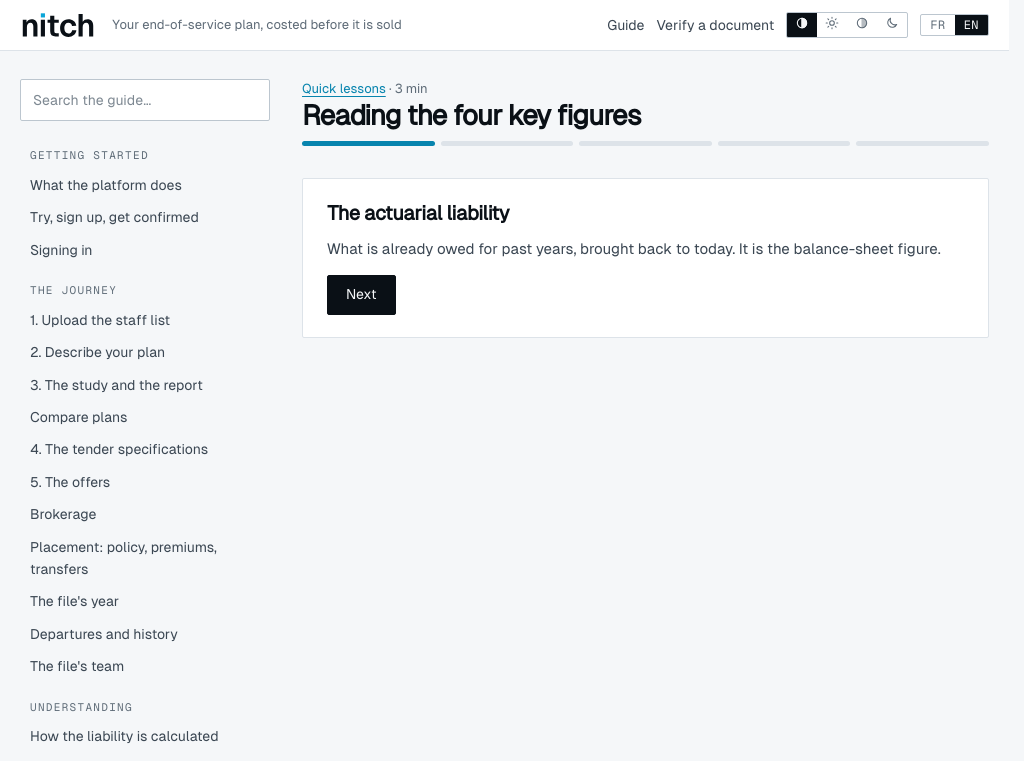
Scenario: the guide in English › a lesson: its screens, its question and its reason in English
The width and height of the screenshot is (1024, 761).
Expected: the heading "Reading the four key figures" is shown, [302,99,641,131]
Expected: the heading "The actuarial liability" is shown, [327,202,509,224]
Click the button "Next": x=361, y=295 [327,275,396,315]
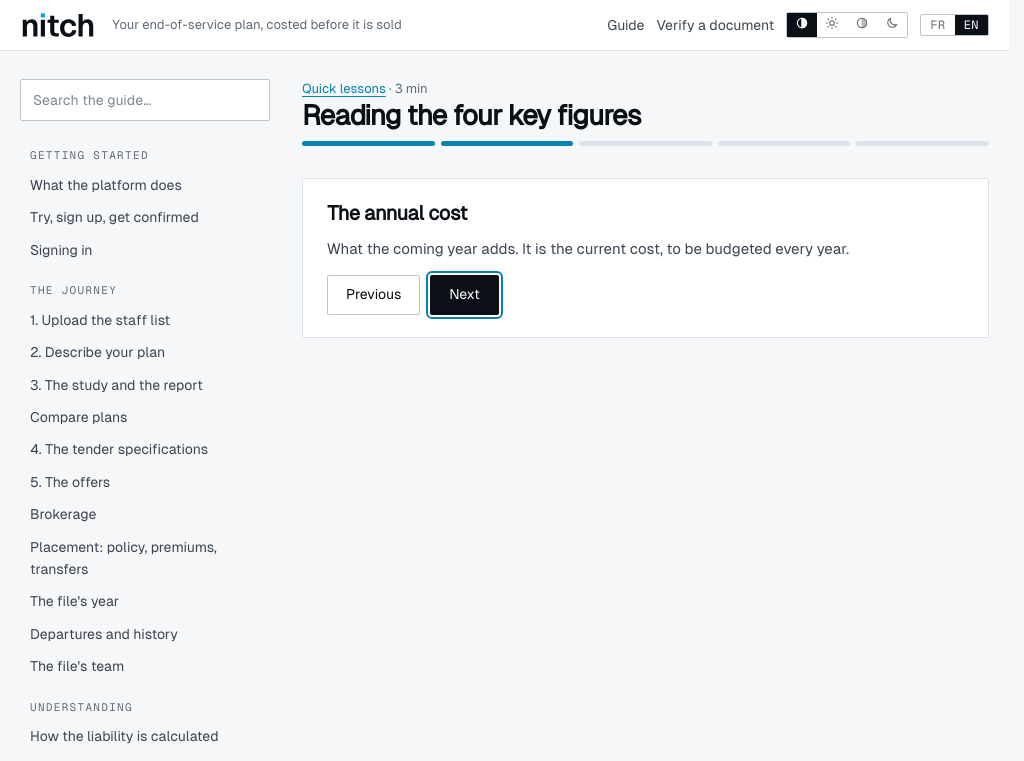
Click the button "Next": x=465, y=295 [430,275,499,315]
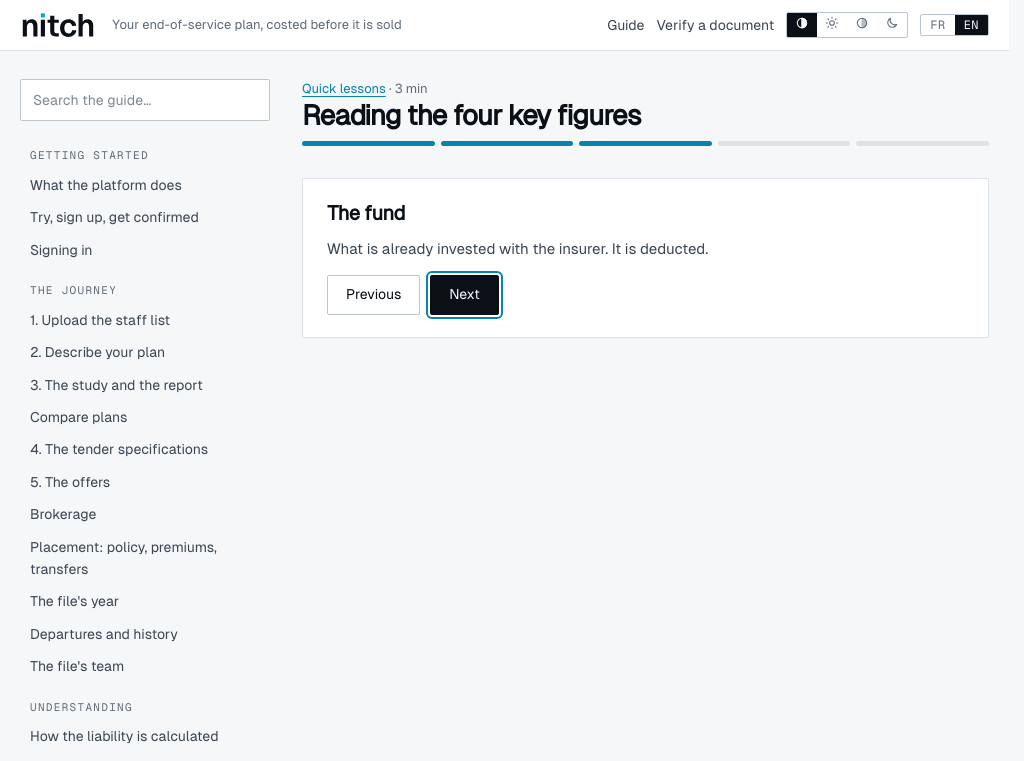
Click the button "Next": x=465, y=295 [430,275,499,315]
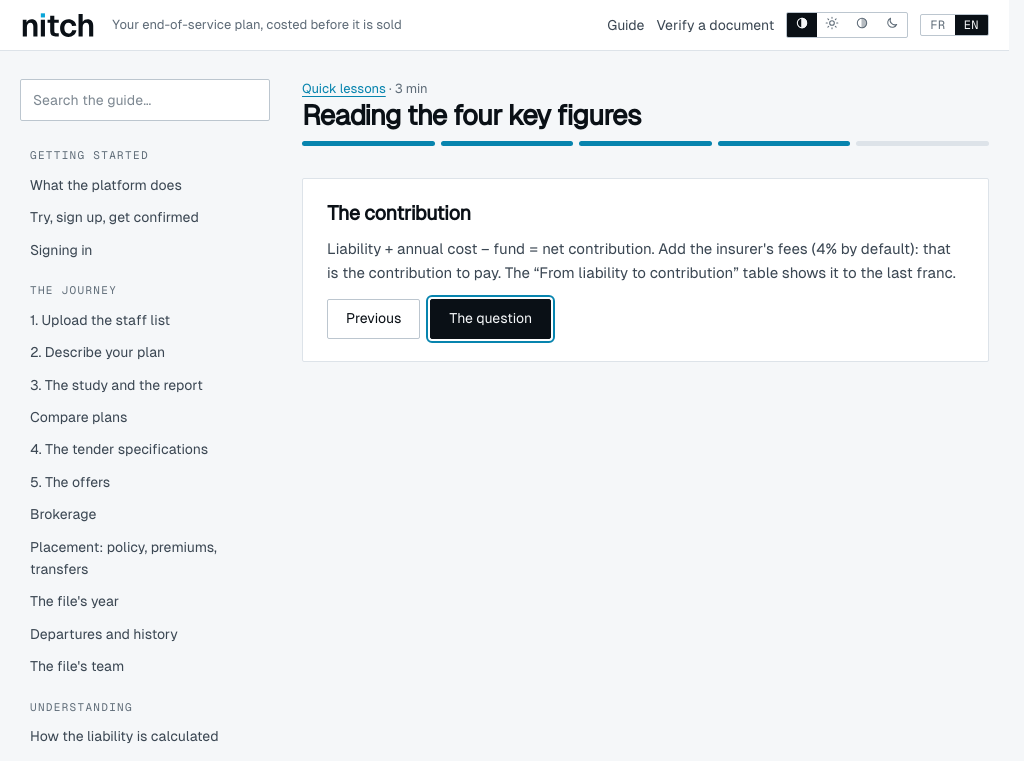
Click the button "The question": x=491, y=319 [430,299,551,339]
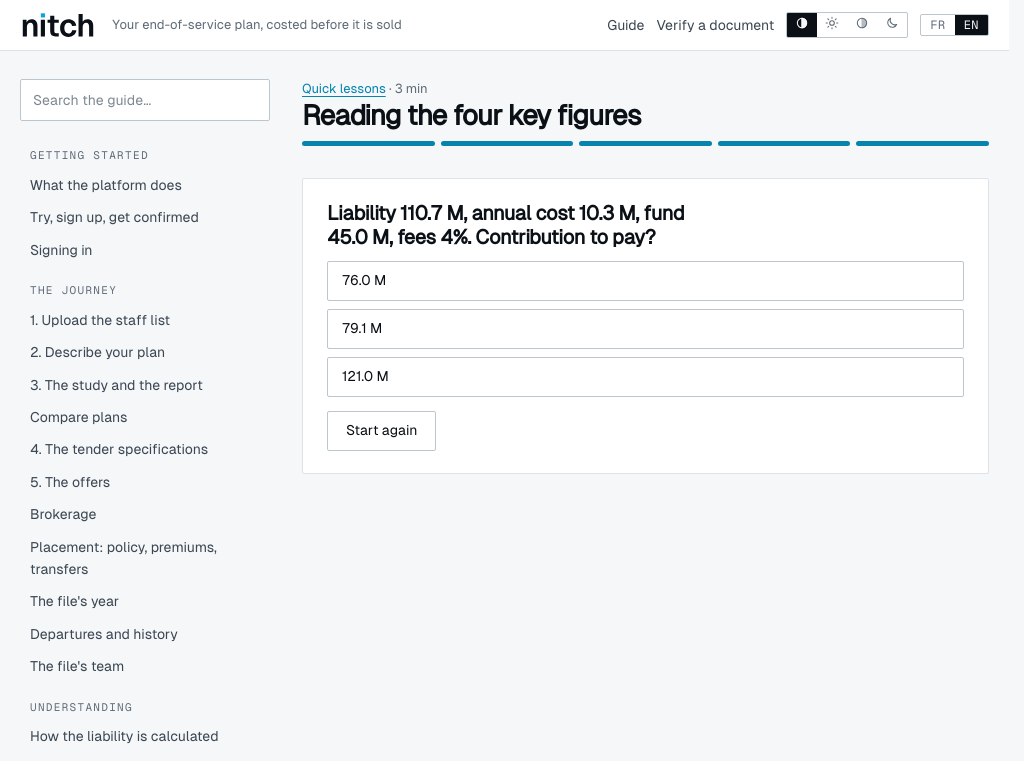
Click the radio button labelled "79.1 M": x=362, y=328 [327,309,964,349]
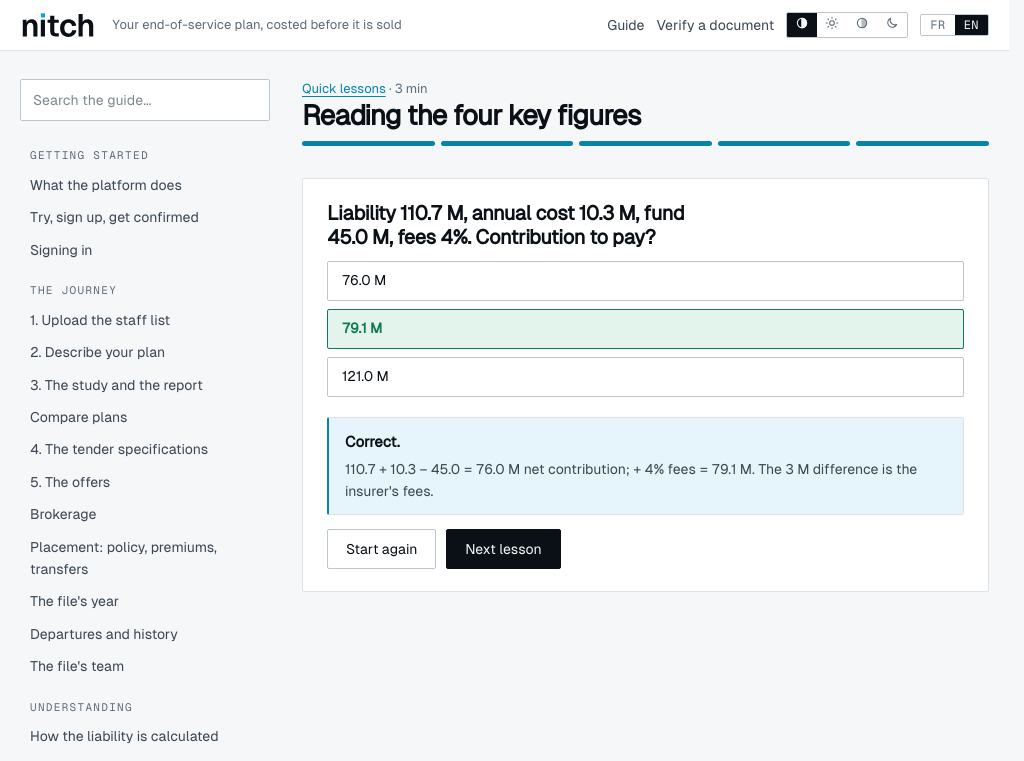
Expected: the text "Correct." is shown, [345,433,400,450]
Expected: the text "The 3 M difference is the insurer's fees" is shown, [345,461,917,499]
Expected: the button "Next lesson" is shown, [446,530,561,570]
